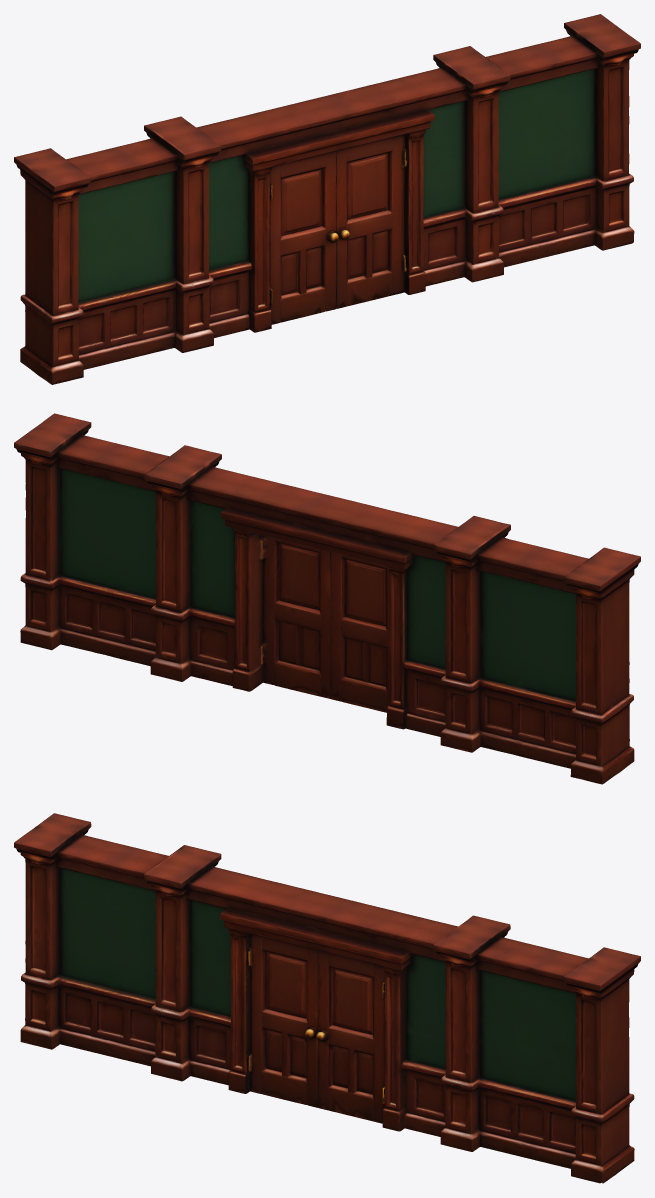
The model's file is wall-doubledoor.glb.
The picture shows the model from 3 angles, top to bottom: view 1: azimuth 30°, elevation 25°; view 2: azimuth 150°, elevation 25°; view 3: azimuth 330°, elevation 25°; orthographic projection.
Visible parts, largest first — view 1: tripo_node_a9f882d7-6f4c-4278-8d7a-8db160200298; view 2: tripo_node_a9f882d7-6f4c-4278-8d7a-8db160200298; view 3: tripo_node_a9f882d7-6f4c-4278-8d7a-8db160200298.
Part boxes in pixels (x1,y1,x2,y2): tripo_node_a9f882d7-6f4c-4278-8d7a-8db160200298: (14, 14, 640, 384); tripo_node_a9f882d7-6f4c-4278-8d7a-8db160200298: (14, 413, 640, 784); tripo_node_a9f882d7-6f4c-4278-8d7a-8db160200298: (14, 813, 640, 1183).
Bounding box in the file's own units: 0.9798 × 0.3234 × 0.1176.
Materials: 1 (1 with a texture image).
